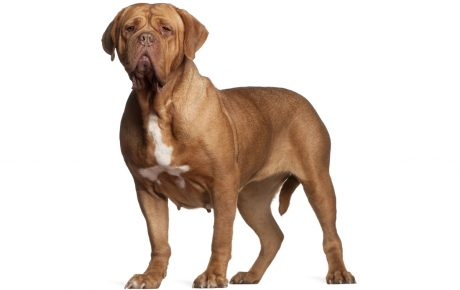dogue_de_bordeaux: (101, 2, 356, 289)
